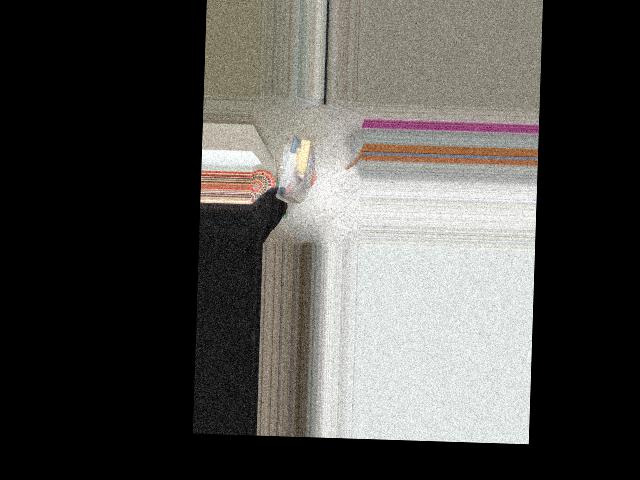cheese: (273, 135, 316, 203)
